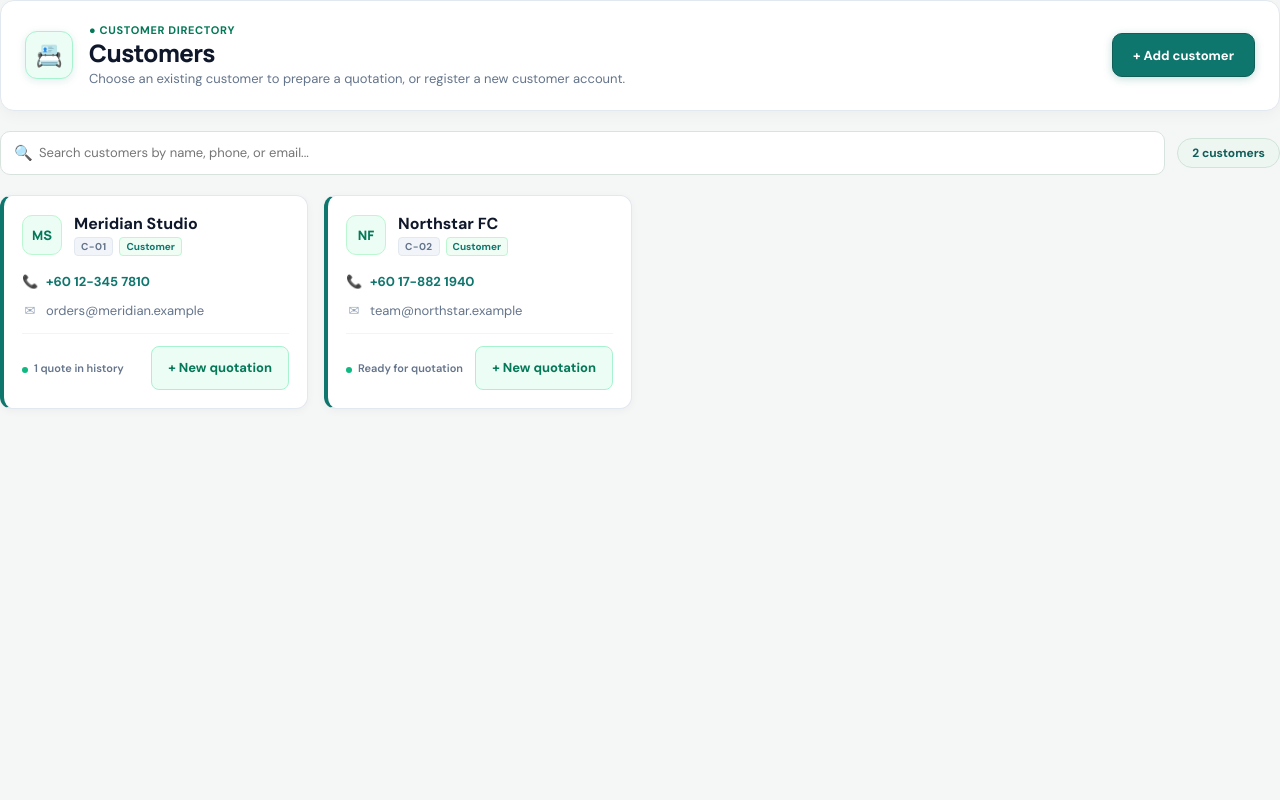
ContactsView customer directory › opens add customer modal when clicking "+ Add customer"
Click the button "+ Add customer" at x=1184, y=56, box [1112, 34, 1255, 78]
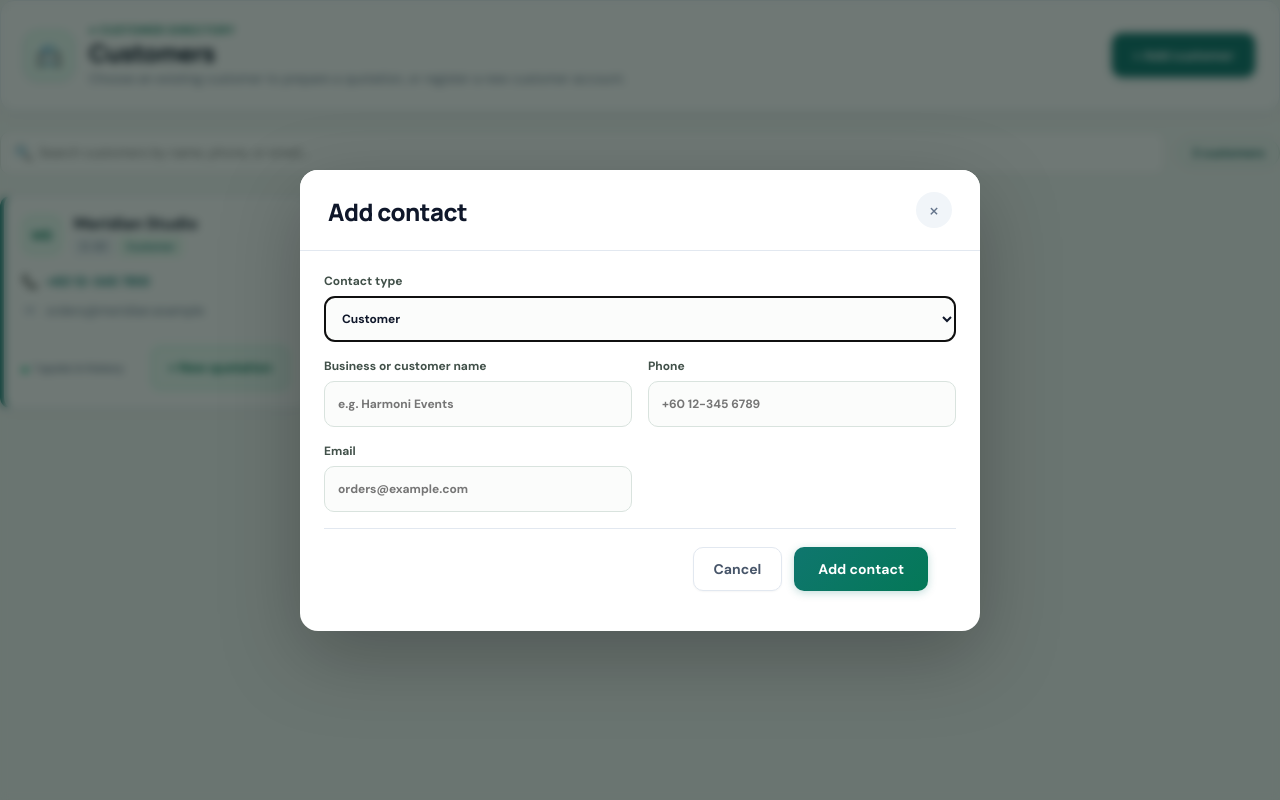
Check: the dialog is shown, box [300, 170, 980, 630]
Check: the heading "Add contact" is shown, box [328, 198, 467, 227]
